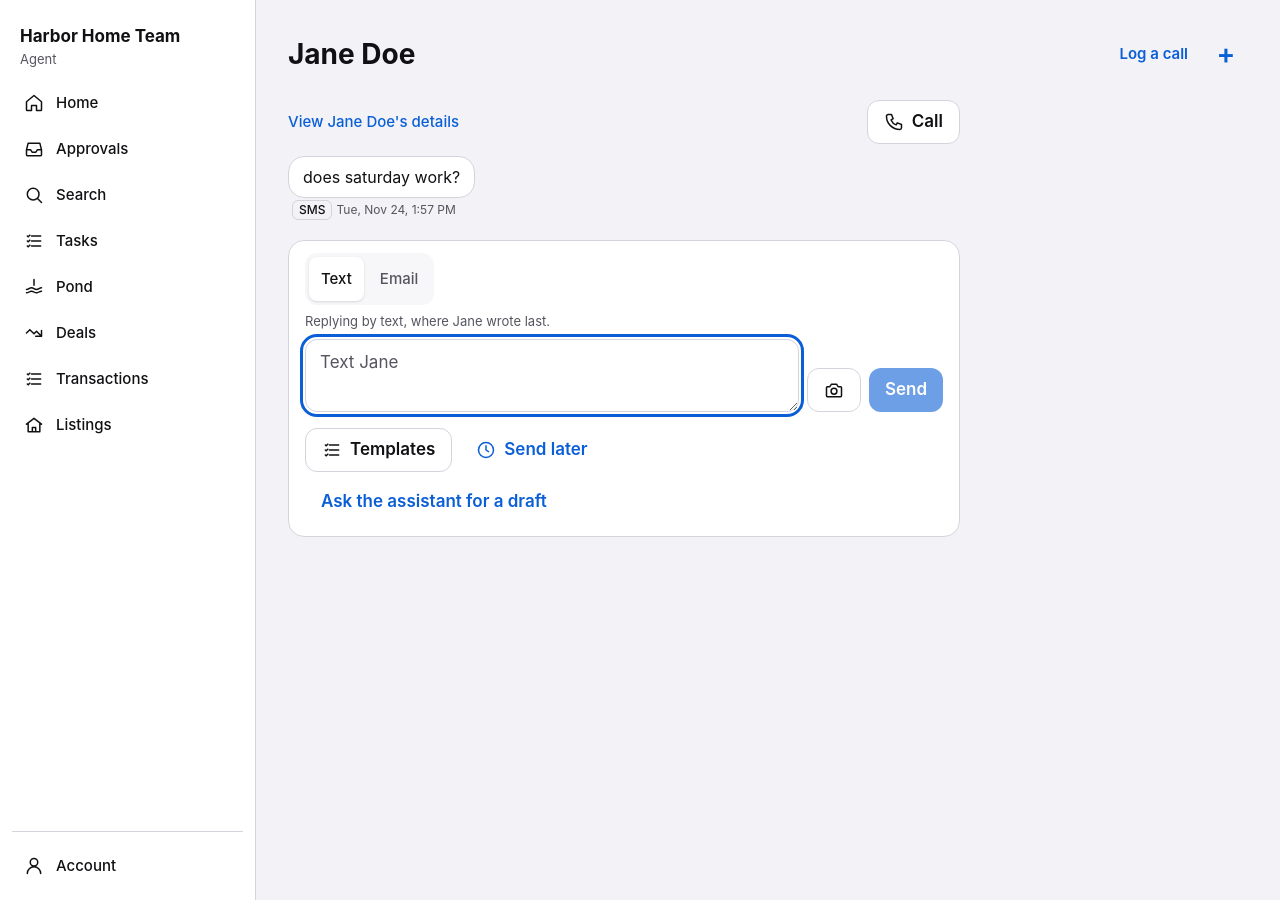
R-PAR-24 the template picker in the composer › R-PAR-24 a template that needs a value this person lacks is named before sending; nothing is inserted
What coordinates should you click on to do the following:
click the button "Templates"
I would click on:
 (379, 450)
Its box is 305,428 -> 452,472.
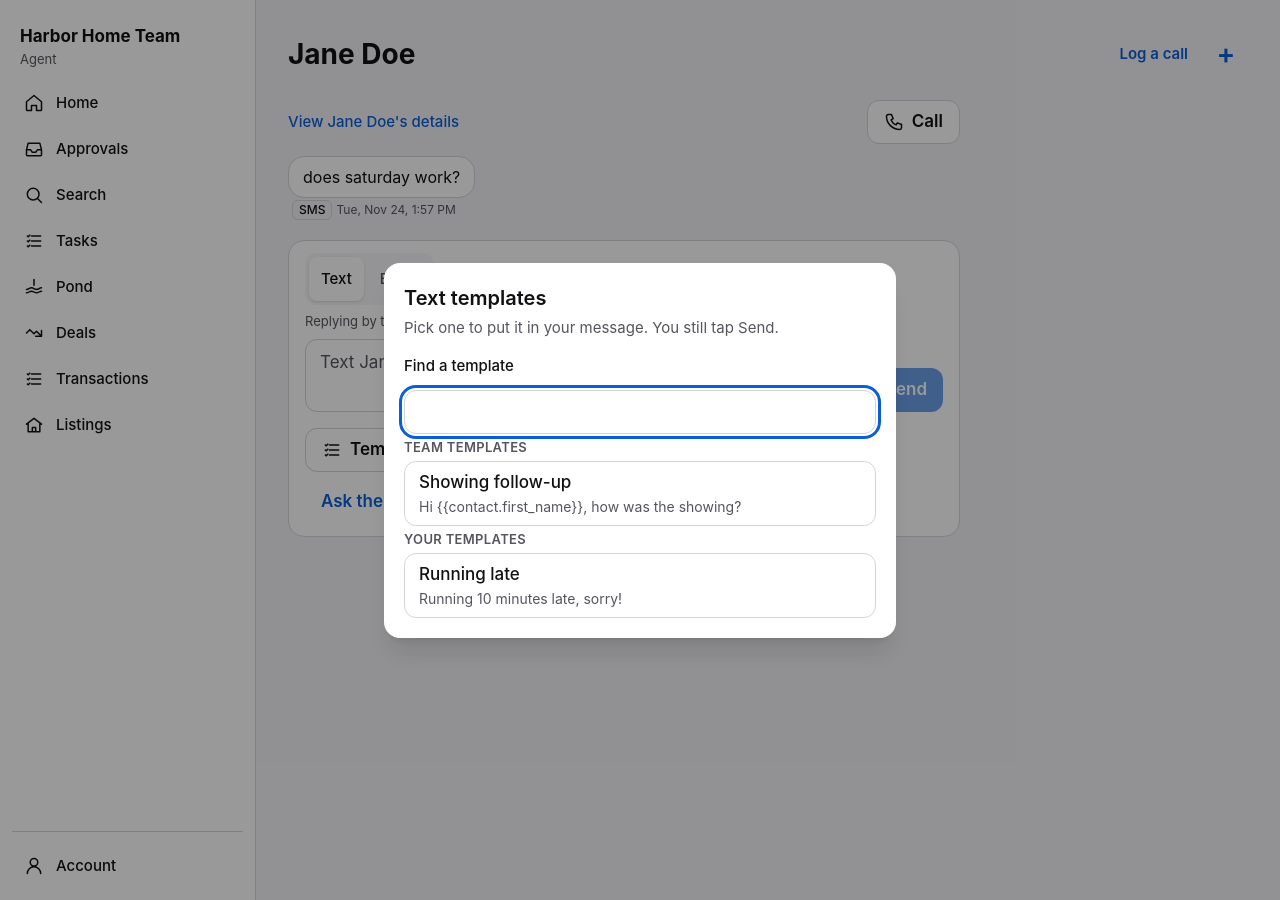
What coordinates should you click on to do the following:
click the button "Showing follow-up"
I would click on:
 (495, 482)
Its box is 404,461 -> 876,526.
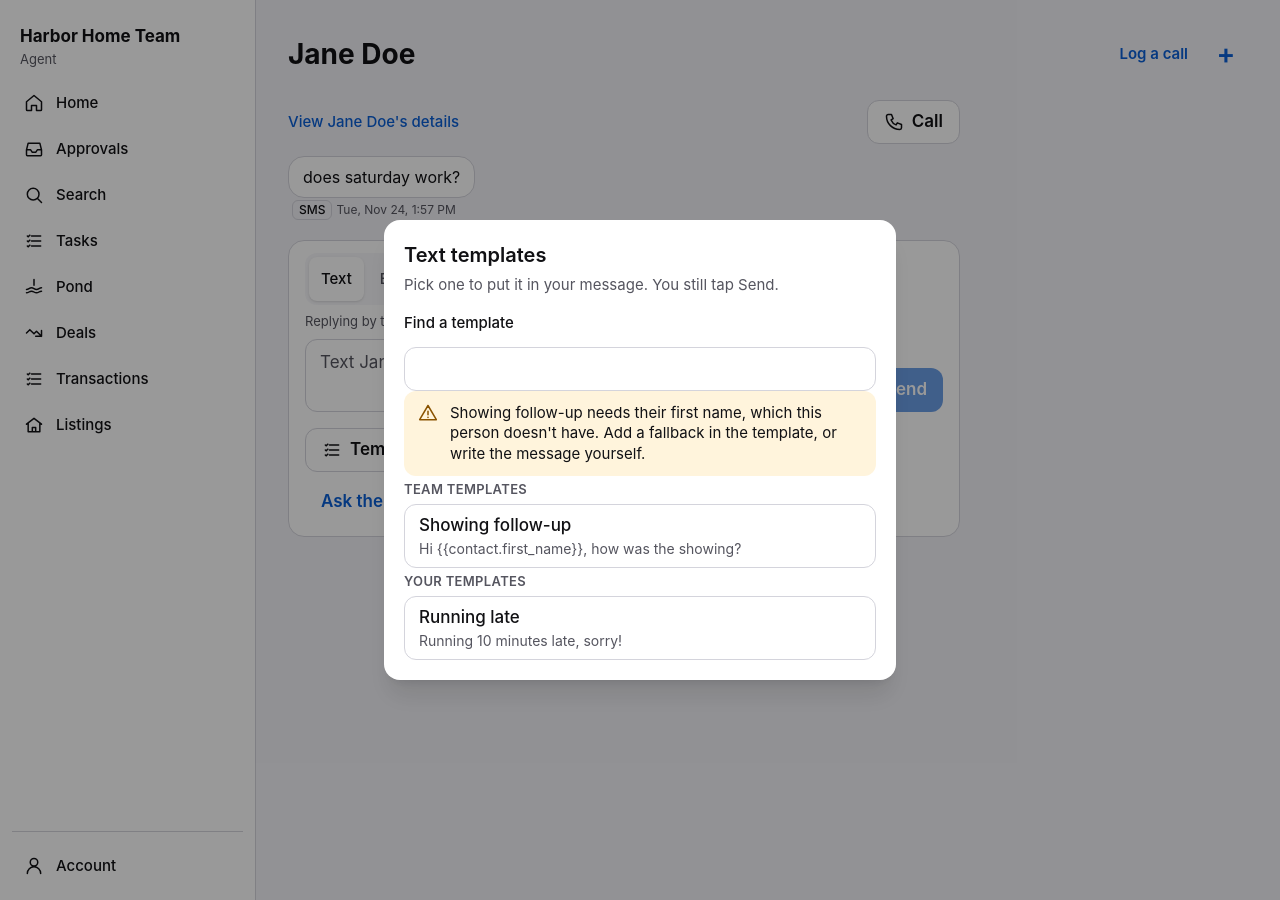
Expected: the text box named "Text message" is empty, 305,339 -> 799,412
Expected: the text "needs their first name, which this person doesn't have" is shown, 450,403 -> 837,463
